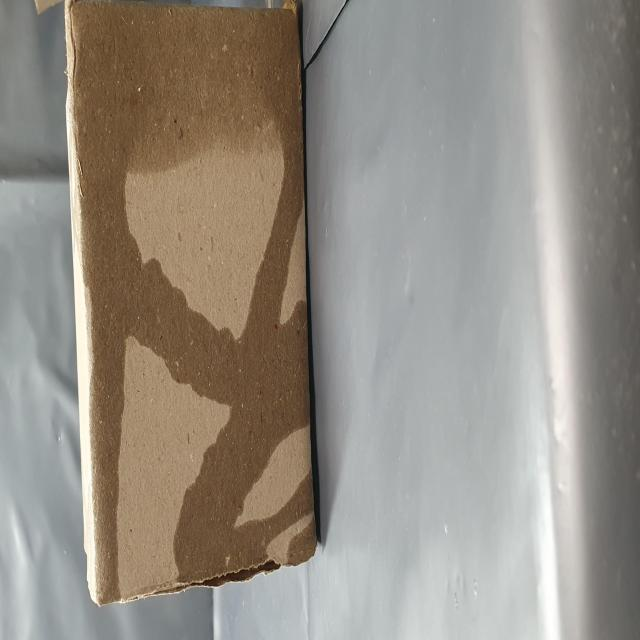wet: (23, 124, 360, 575)
